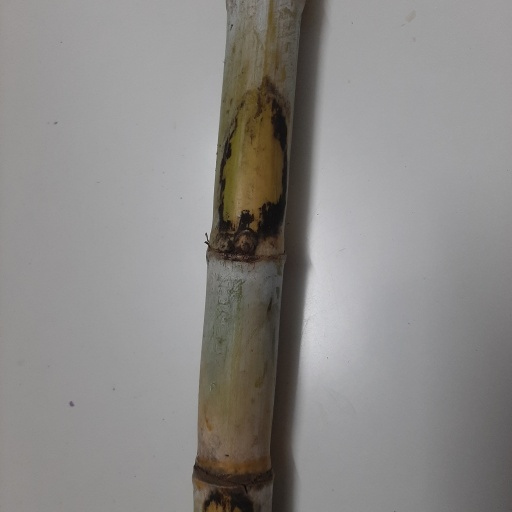Bud: (232, 228, 256, 259)
